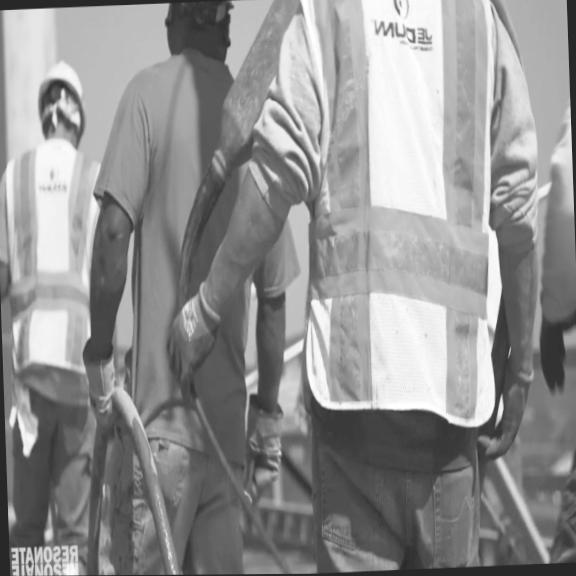safety_vest: (290, 0, 514, 431), (2, 137, 109, 374)
